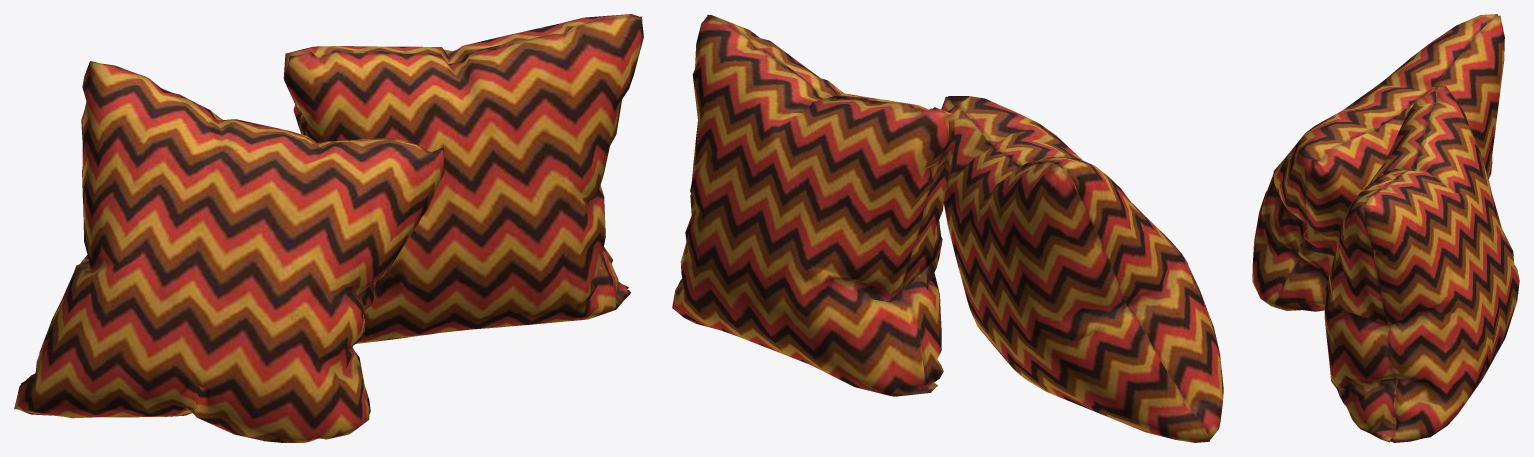
File: throw_pillows_01.glb
The picture shows the model from 3 angles, left to right: view 1: azimuth 30°, elevation 25°; view 2: azimuth 150°, elevation 25°; view 3: azimuth 270°, elevation 25°; orthographic projection. The views are drawn at different scales.
Visible parts, largest first — view 1: throw_pillows_01_pillow01, throw_pillows_01_pillow02; view 2: throw_pillows_01_pillow02, throw_pillows_01_pillow01; view 3: throw_pillows_01_pillow02, throw_pillows_01_pillow01.
Boxes of the visible parts, left/top/right/bottom form: throw_pillows_01_pillow01: left=14, top=61, right=444, bottom=442; throw_pillows_01_pillow02: left=283, top=14, right=643, bottom=343; throw_pillows_01_pillow02: left=672, top=14, right=954, bottom=396; throw_pillows_01_pillow01: left=941, top=96, right=1223, bottom=442; throw_pillows_01_pillow02: left=1324, top=86, right=1519, bottom=442; throw_pillows_01_pillow01: left=1252, top=14, right=1504, bottom=311.
Size of the model in its own units: 0.9399 by 0.4501 by 0.4515.
Materials: 1 (1 with a texture image).
